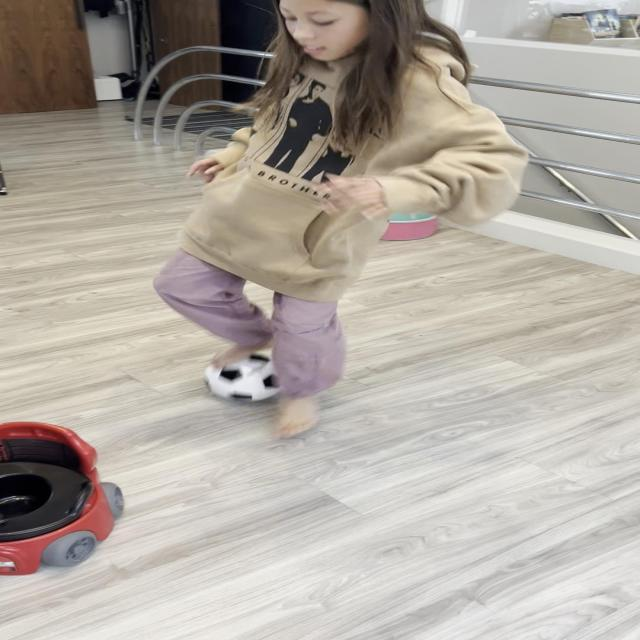Soccer Ball: (204, 353, 291, 404)
